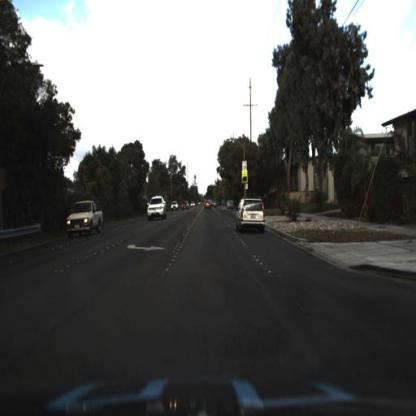car: (236, 200, 266, 234), (148, 196, 166, 221), (205, 201, 213, 211), (182, 202, 190, 212), (228, 201, 235, 211), (172, 202, 179, 212), (213, 202, 218, 209), (191, 204, 196, 207)
truck: (67, 201, 105, 241)
